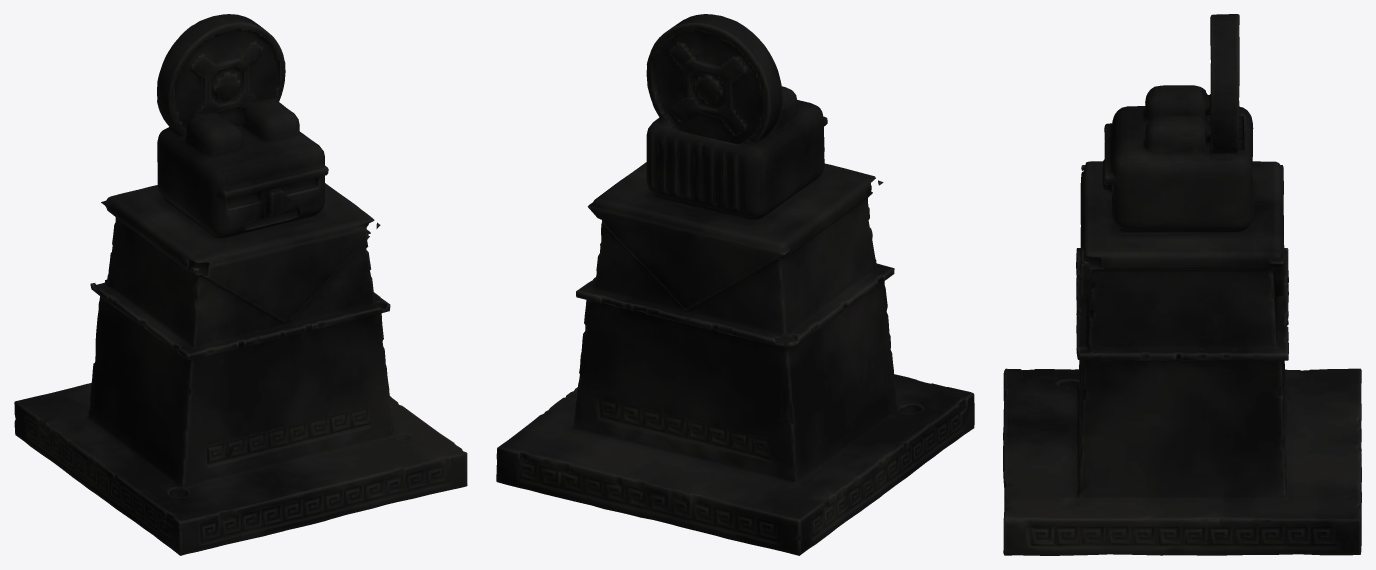
The model's file is queen-basalt.glb.
3 renders of one model, left to right at view 1: azimuth 30°, elevation 25°; view 2: azimuth 150°, elevation 25°; view 3: azimuth 270°, elevation 25°, orthographic. The views are drawn at different scales.
Visible parts, largest first — view 1: queen; view 2: queen; view 3: queen.
Part boxes in pixels (<box>): queen: <box>14,14,467,555</box>; queen: <box>496,14,974,555</box>; queen: <box>1003,14,1361,555</box>.
Bounding box in the file's own units: 0.7629 × 1.08 × 0.763.
Materials: 1 (1 with a texture image).
